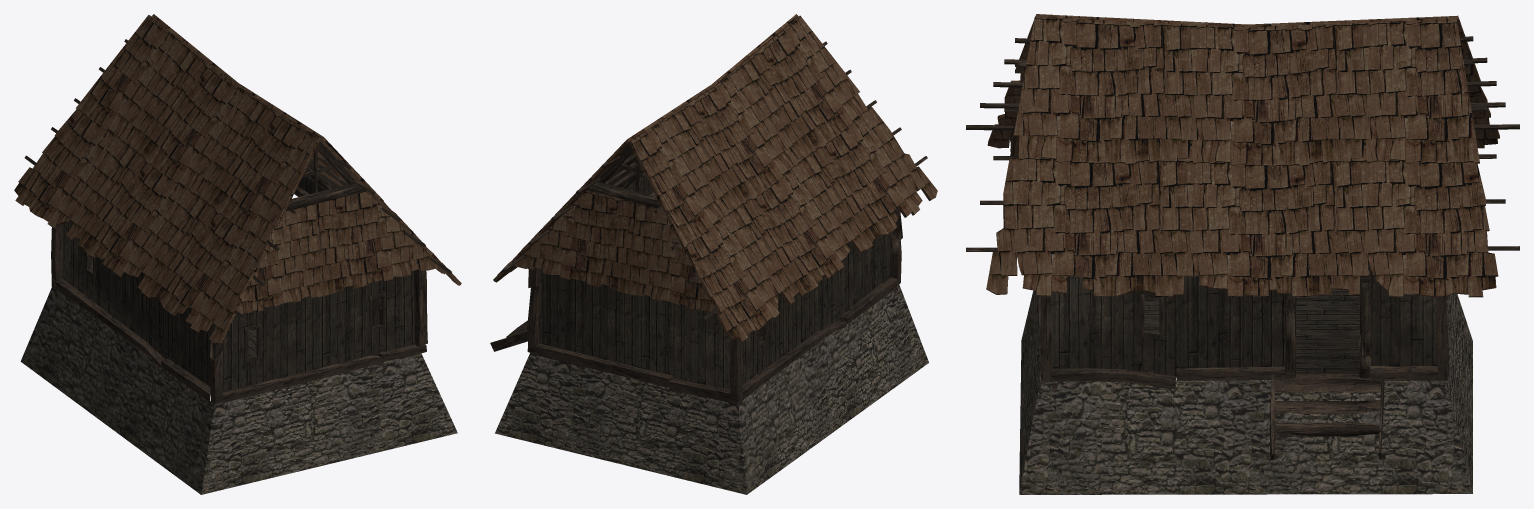
File: G3_Myrtana_House_Small_03.obj
3 renders of one model, left to right at view 1: azimuth 30°, elevation 25°; view 2: azimuth 150°, elevation 25°; view 3: azimuth 270°, elevation 25°, orthographic. The views are drawn at different scales.
Parts seen in each view (by area): view 1: G3_Myrtana_House_Small_03_1, G3_Myrtana_House_Small_03_0, G3_Myrtana_House_Small_03_2, G3_Myrtana_House_Small_03_3; view 2: G3_Myrtana_House_Small_03_1, G3_Myrtana_House_Small_03_0, G3_Myrtana_House_Small_03_2, G3_Myrtana_House_Small_03_3; view 3: G3_Myrtana_House_Small_03_1, G3_Myrtana_House_Small_03_0, G3_Myrtana_House_Small_03_2, G3_Myrtana_House_Small_03_3.
Boxes of the visible parts, left/top/right/bottom form: G3_Myrtana_House_Small_03_1: left=14, top=14, right=461, bottom=343; G3_Myrtana_House_Small_03_0: left=20, top=287, right=457, bottom=494; G3_Myrtana_House_Small_03_2: left=62, top=176, right=414, bottom=391; G3_Myrtana_House_Small_03_3: left=24, top=22, right=451, bottom=404; G3_Myrtana_House_Small_03_1: left=493, top=14, right=937, bottom=342; G3_Myrtana_House_Small_03_0: left=495, top=285, right=928, bottom=494; G3_Myrtana_House_Small_03_2: left=539, top=175, right=890, bottom=389; G3_Myrtana_House_Small_03_3: left=490, top=41, right=927, bottom=403; G3_Myrtana_House_Small_03_1: left=986, top=14, right=1499, bottom=297; G3_Myrtana_House_Small_03_0: left=1019, top=290, right=1472, bottom=494; G3_Myrtana_House_Small_03_2: left=1051, top=260, right=1437, bottom=376; G3_Myrtana_House_Small_03_3: left=966, top=36, right=1519, bottom=460.
Size of the model in its own units: 10.04 by 10.44 by 13.08.
